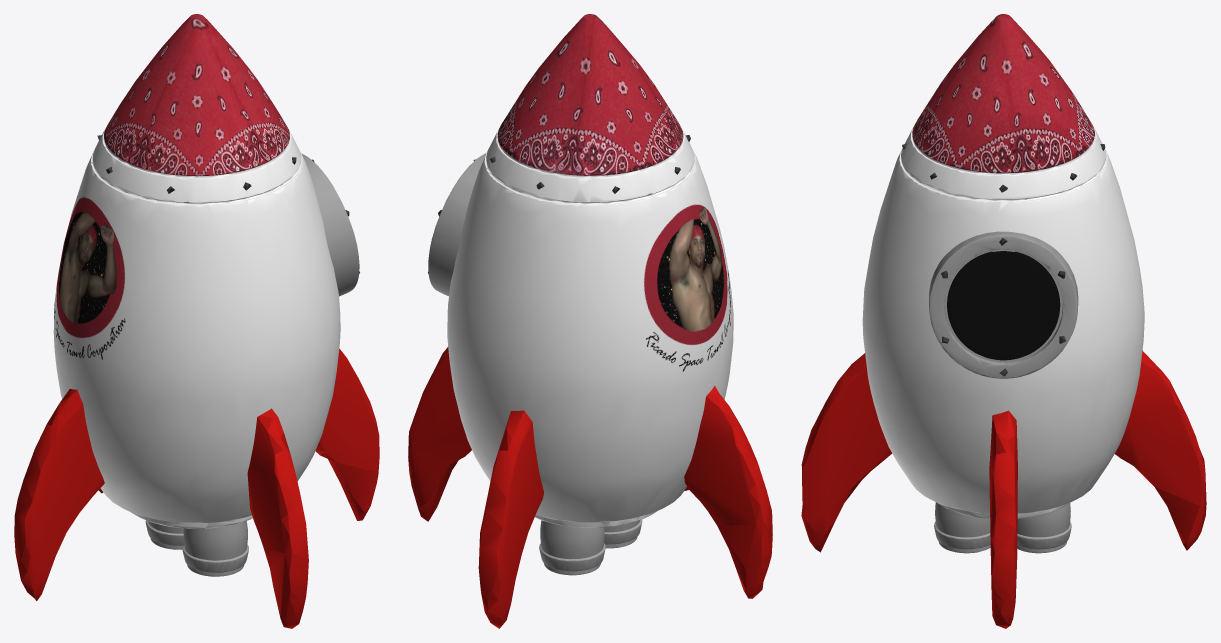
File: Ricardo Rocket.fbx
The picture shows the model from 3 angles, left to right: view 1: azimuth 30°, elevation 25°; view 2: azimuth 150°, elevation 25°; view 3: azimuth 270°, elevation 25°; orthographic projection.
Visible parts, largest first — view 1: Cylinder, Cylinder.003, Cylinder.008, Cylinder.001; view 2: Cylinder, Cylinder.003, Cylinder.008, Cylinder.001; view 3: Cylinder, Cylinder.003, Cylinder.001, Cylinder.008.
Boxes of the visible parts, x1,y1,x2,y2 form: Cylinder: (53, 14, 340, 528); Cylinder.003: (14, 348, 379, 628); Cylinder.008: (145, 520, 248, 576); Cylinder.001: (301, 153, 359, 296); Cylinder: (447, 14, 733, 527); Cylinder.003: (408, 347, 772, 628); Cylinder.008: (539, 519, 642, 575); Cylinder.001: (428, 153, 485, 296); Cylinder: (862, 14, 1144, 518); Cylinder.003: (801, 350, 1206, 628); Cylinder.001: (929, 231, 1078, 378); Cylinder.008: (934, 502, 1071, 553).
Bounding box in the file's own units: 32.91 × 47.89 × 32.85.
5 materials, 1 textured.
